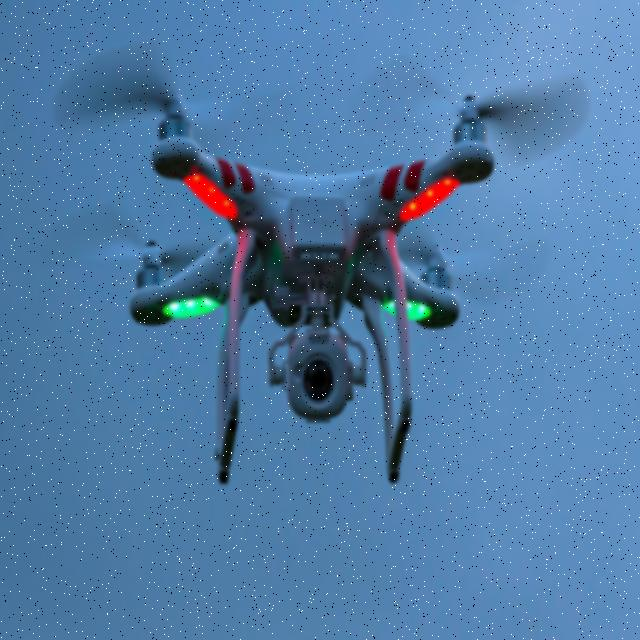UAV: (125, 83, 497, 487)
